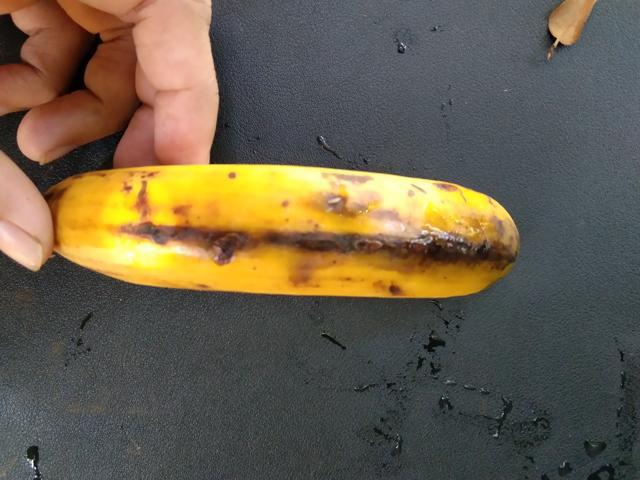overripe: (66, 144, 546, 357)
